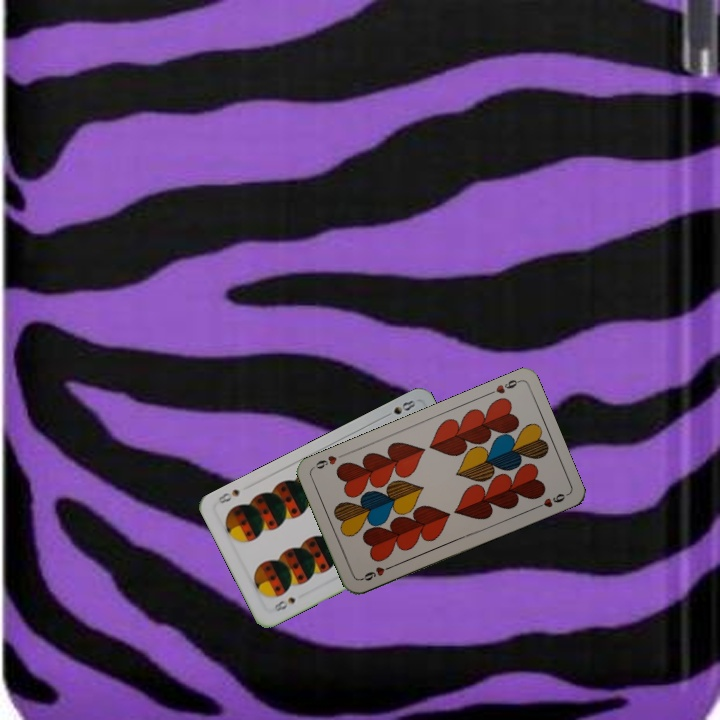H9: (483, 375, 522, 398), (357, 561, 395, 583)
S8: (380, 396, 418, 420), (269, 593, 298, 614)
